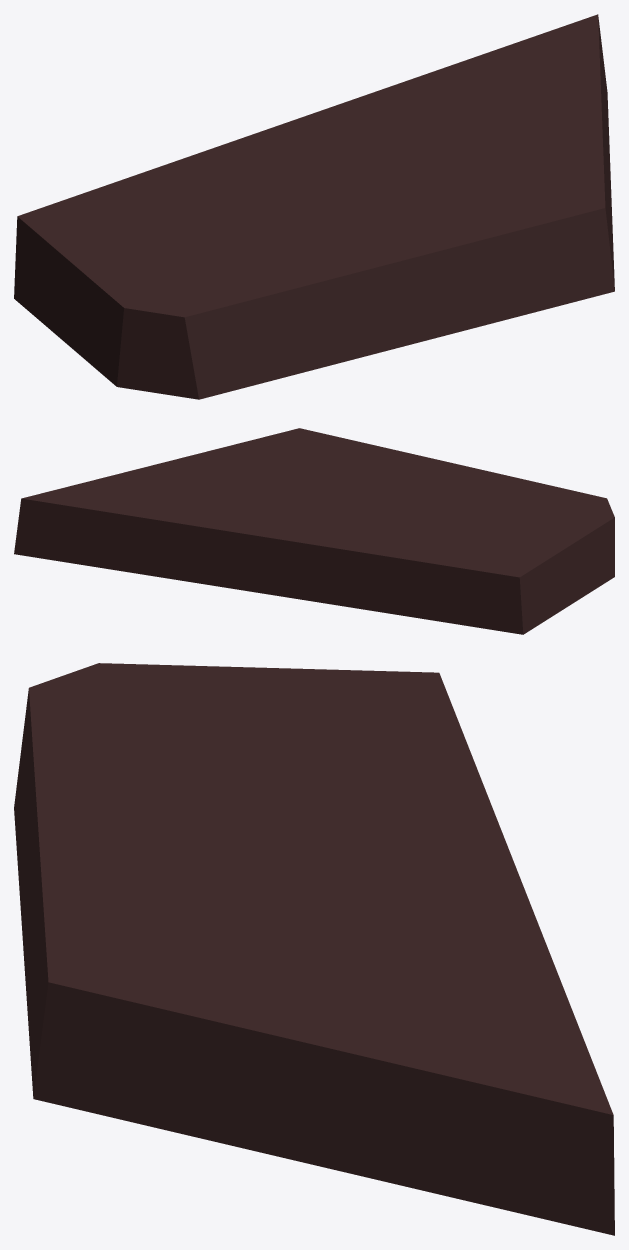
The model's file is T_SolDetruit_5.2.fbx.
3 views of the same model, one above another, from view 1: azimuth 30°, elevation 25°; view 2: azimuth 150°, elevation 25°; view 3: azimuth 270°, elevation 25° (orthographic). The views are drawn at different scales.
Visible parts, largest first — view 1: T_SolDetruit_5.2; view 2: T_SolDetruit_5.2; view 3: T_SolDetruit_5.2.
Part boxes in pixels (<box>): T_SolDetruit_5.2: <box>14,14,614,399</box>; T_SolDetruit_5.2: <box>14,428,614,634</box>; T_SolDetruit_5.2: <box>14,663,614,1235</box>.
Size of the model in its own units: 117 by 13.48 by 64.45.
